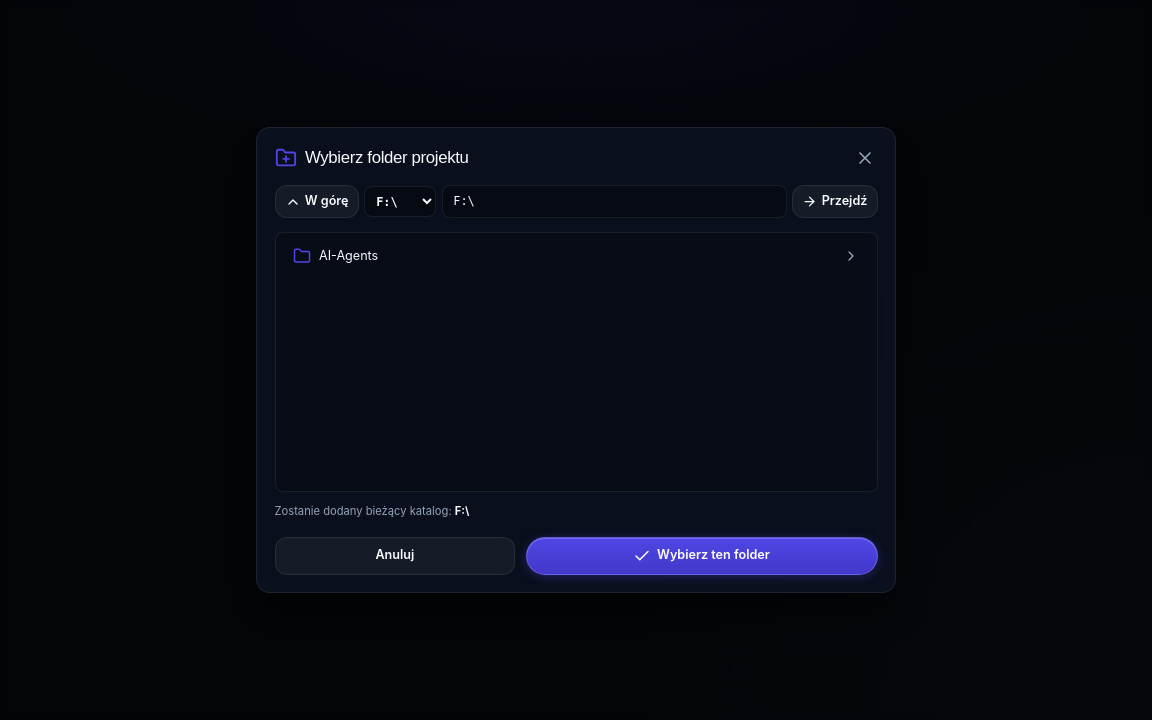
FolderPickerDialog Component › navigates up to DRIVES list when at drive root and clicking "W górę"
Check: the text "AI-Agents" is shown, box x1=319 y1=247 x2=378 y2=266
Click the button titled "W górę (lista dysków)". click: (317, 202)
box: x1=274 y1=185 x2=359 y2=218
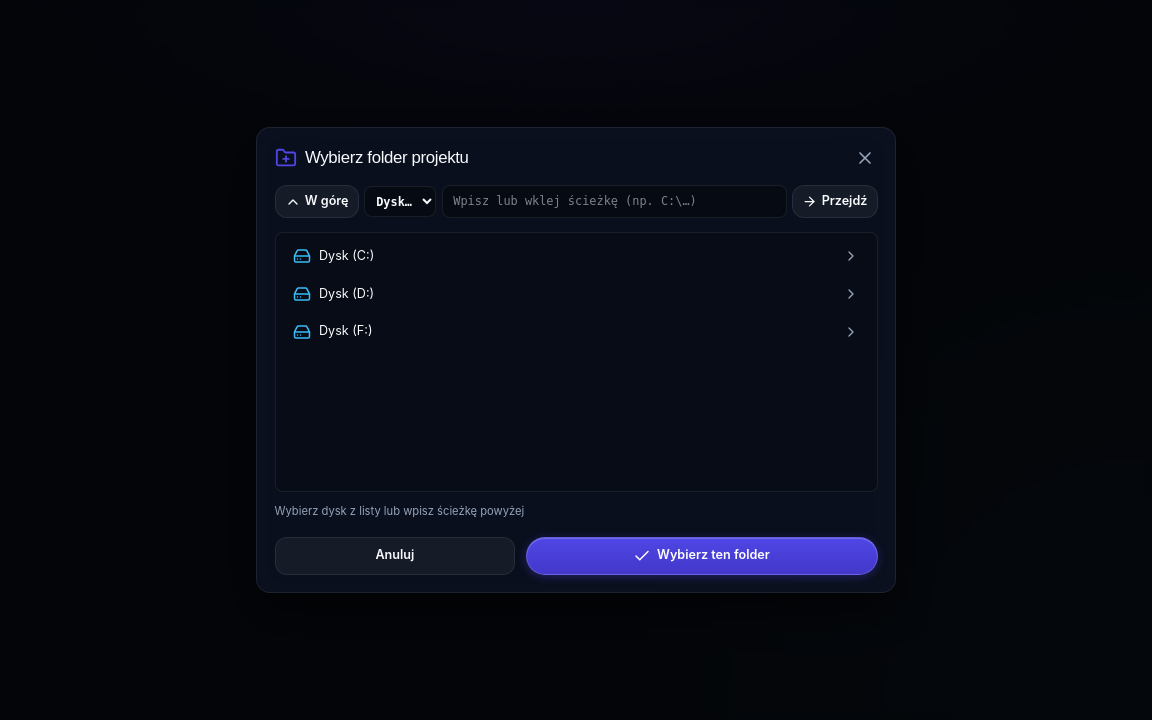
Check: the text "Dysk (C:)" is shown, box x1=319 y1=247 x2=374 y2=266
Check: the text "Dysk (D:)" is shown, box x1=319 y1=285 x2=374 y2=304
Check: the text "Dysk (F:)" is shown, box x1=319 y1=322 x2=372 y2=341
